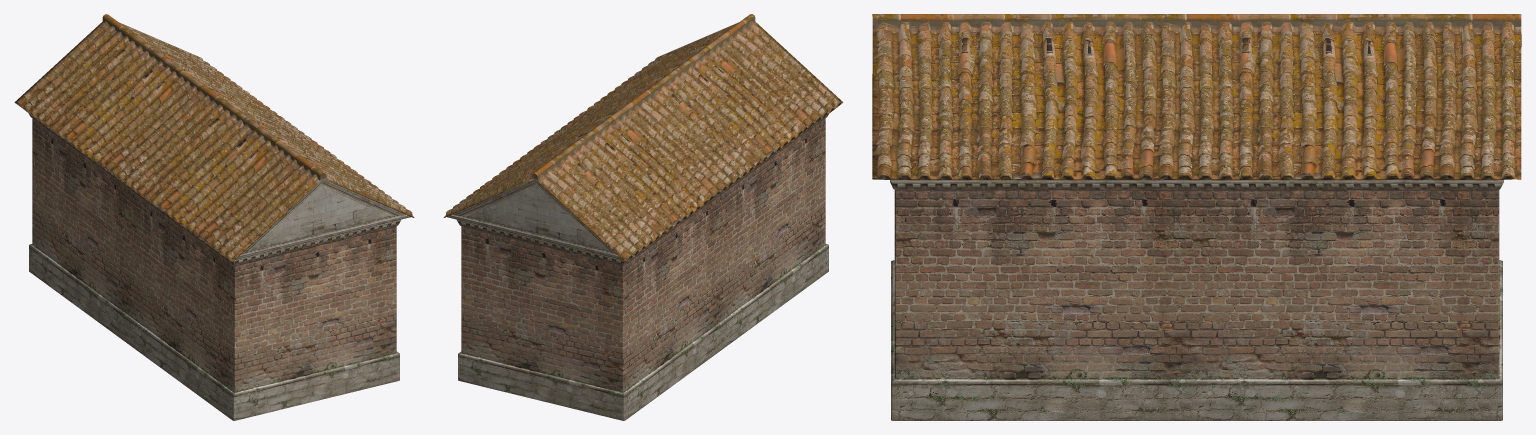
File: Basic9.fbx
3 views of the same model, side by side, from view 1: azimuth 30°, elevation 25°; view 2: azimuth 150°, elevation 25°; view 3: azimuth 270°, elevation 25° (orthographic). The views are drawn at different scales.
Visible parts, largest first — view 1: LV_Campagna_City_CommonBuilding02A_SM_CNH; view 2: LV_Campagna_City_CommonBuilding02A_SM_CNH; view 3: LV_Campagna_City_CommonBuilding02A_SM_CNH.
Boxes of the visible parts, box(x1,y1,x2,y2) form: LV_Campagna_City_CommonBuilding02A_SM_CNH: box(14, 14, 414, 420); LV_Campagna_City_CommonBuilding02A_SM_CNH: box(443, 14, 843, 420); LV_Campagna_City_CommonBuilding02A_SM_CNH: box(872, 14, 1521, 420).
Size of the model in its own units: 1.72 by 2.07 by 3.52.
Materials: 4 (4 with a texture image).
